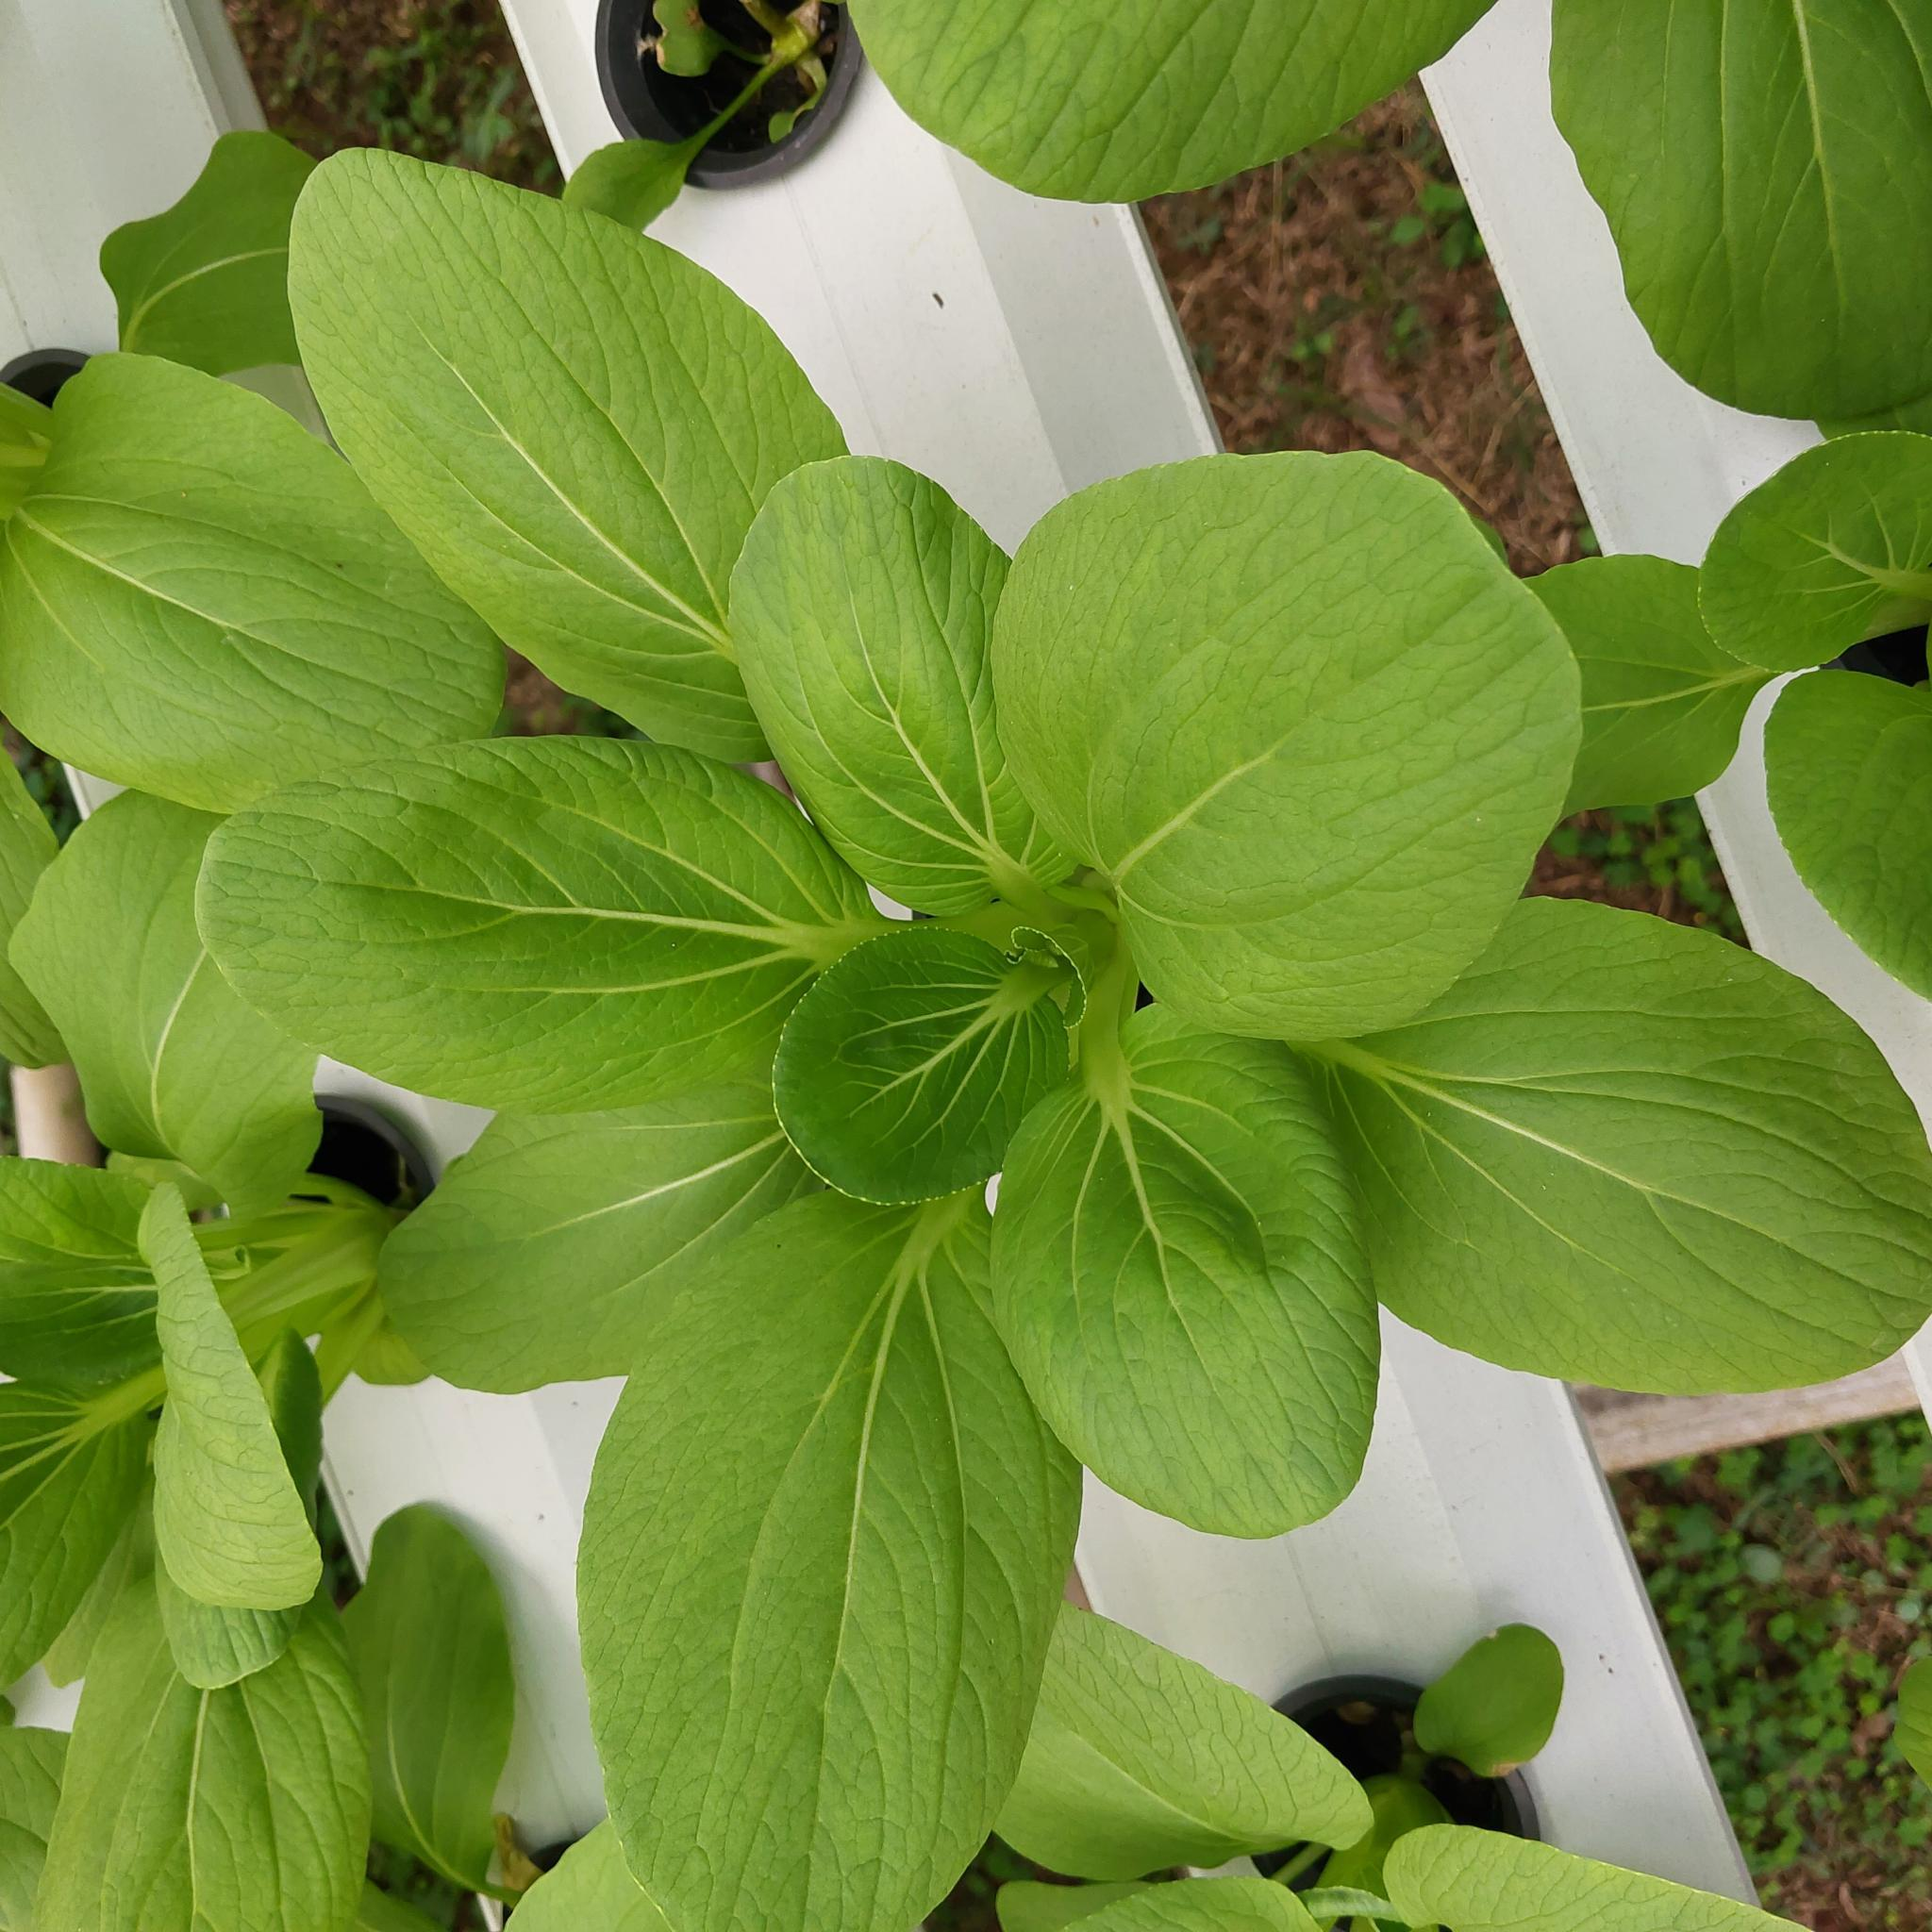Healthy-Pechay: (0, 0, 1790, 1863), (278, 142, 870, 766), (1028, 448, 1575, 1023), (563, 1187, 948, 1932), (191, 750, 918, 1100), (0, 343, 508, 828), (1546, 7, 1928, 446), (731, 444, 1062, 929), (14, 798, 439, 1166), (366, 1099, 816, 1392), (1021, 2, 1537, 207), (136, 1168, 327, 1679), (338, 1502, 529, 1902), (1529, 559, 1780, 824), (28, 1559, 205, 1930), (97, 136, 336, 386), (1697, 435, 1930, 681), (1759, 671, 1932, 1001), (196, 1606, 373, 1927), (1113, 686, 1346, 899), (4, 1385, 154, 1706), (2, 1706, 73, 1916)
